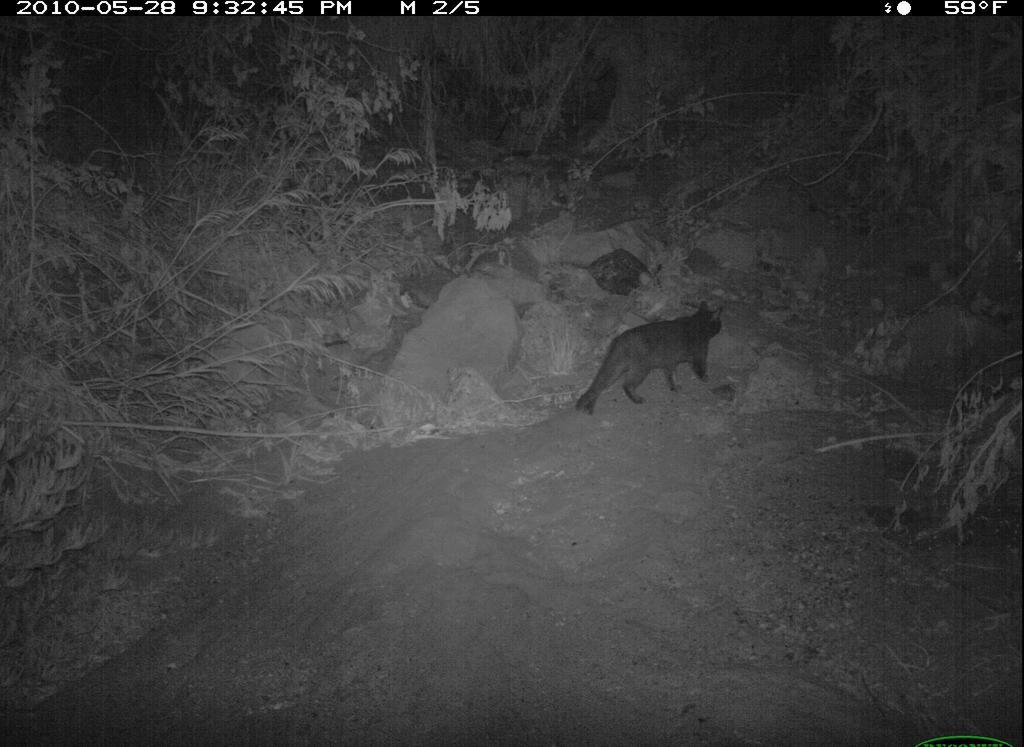cat: (562, 290, 744, 424)
